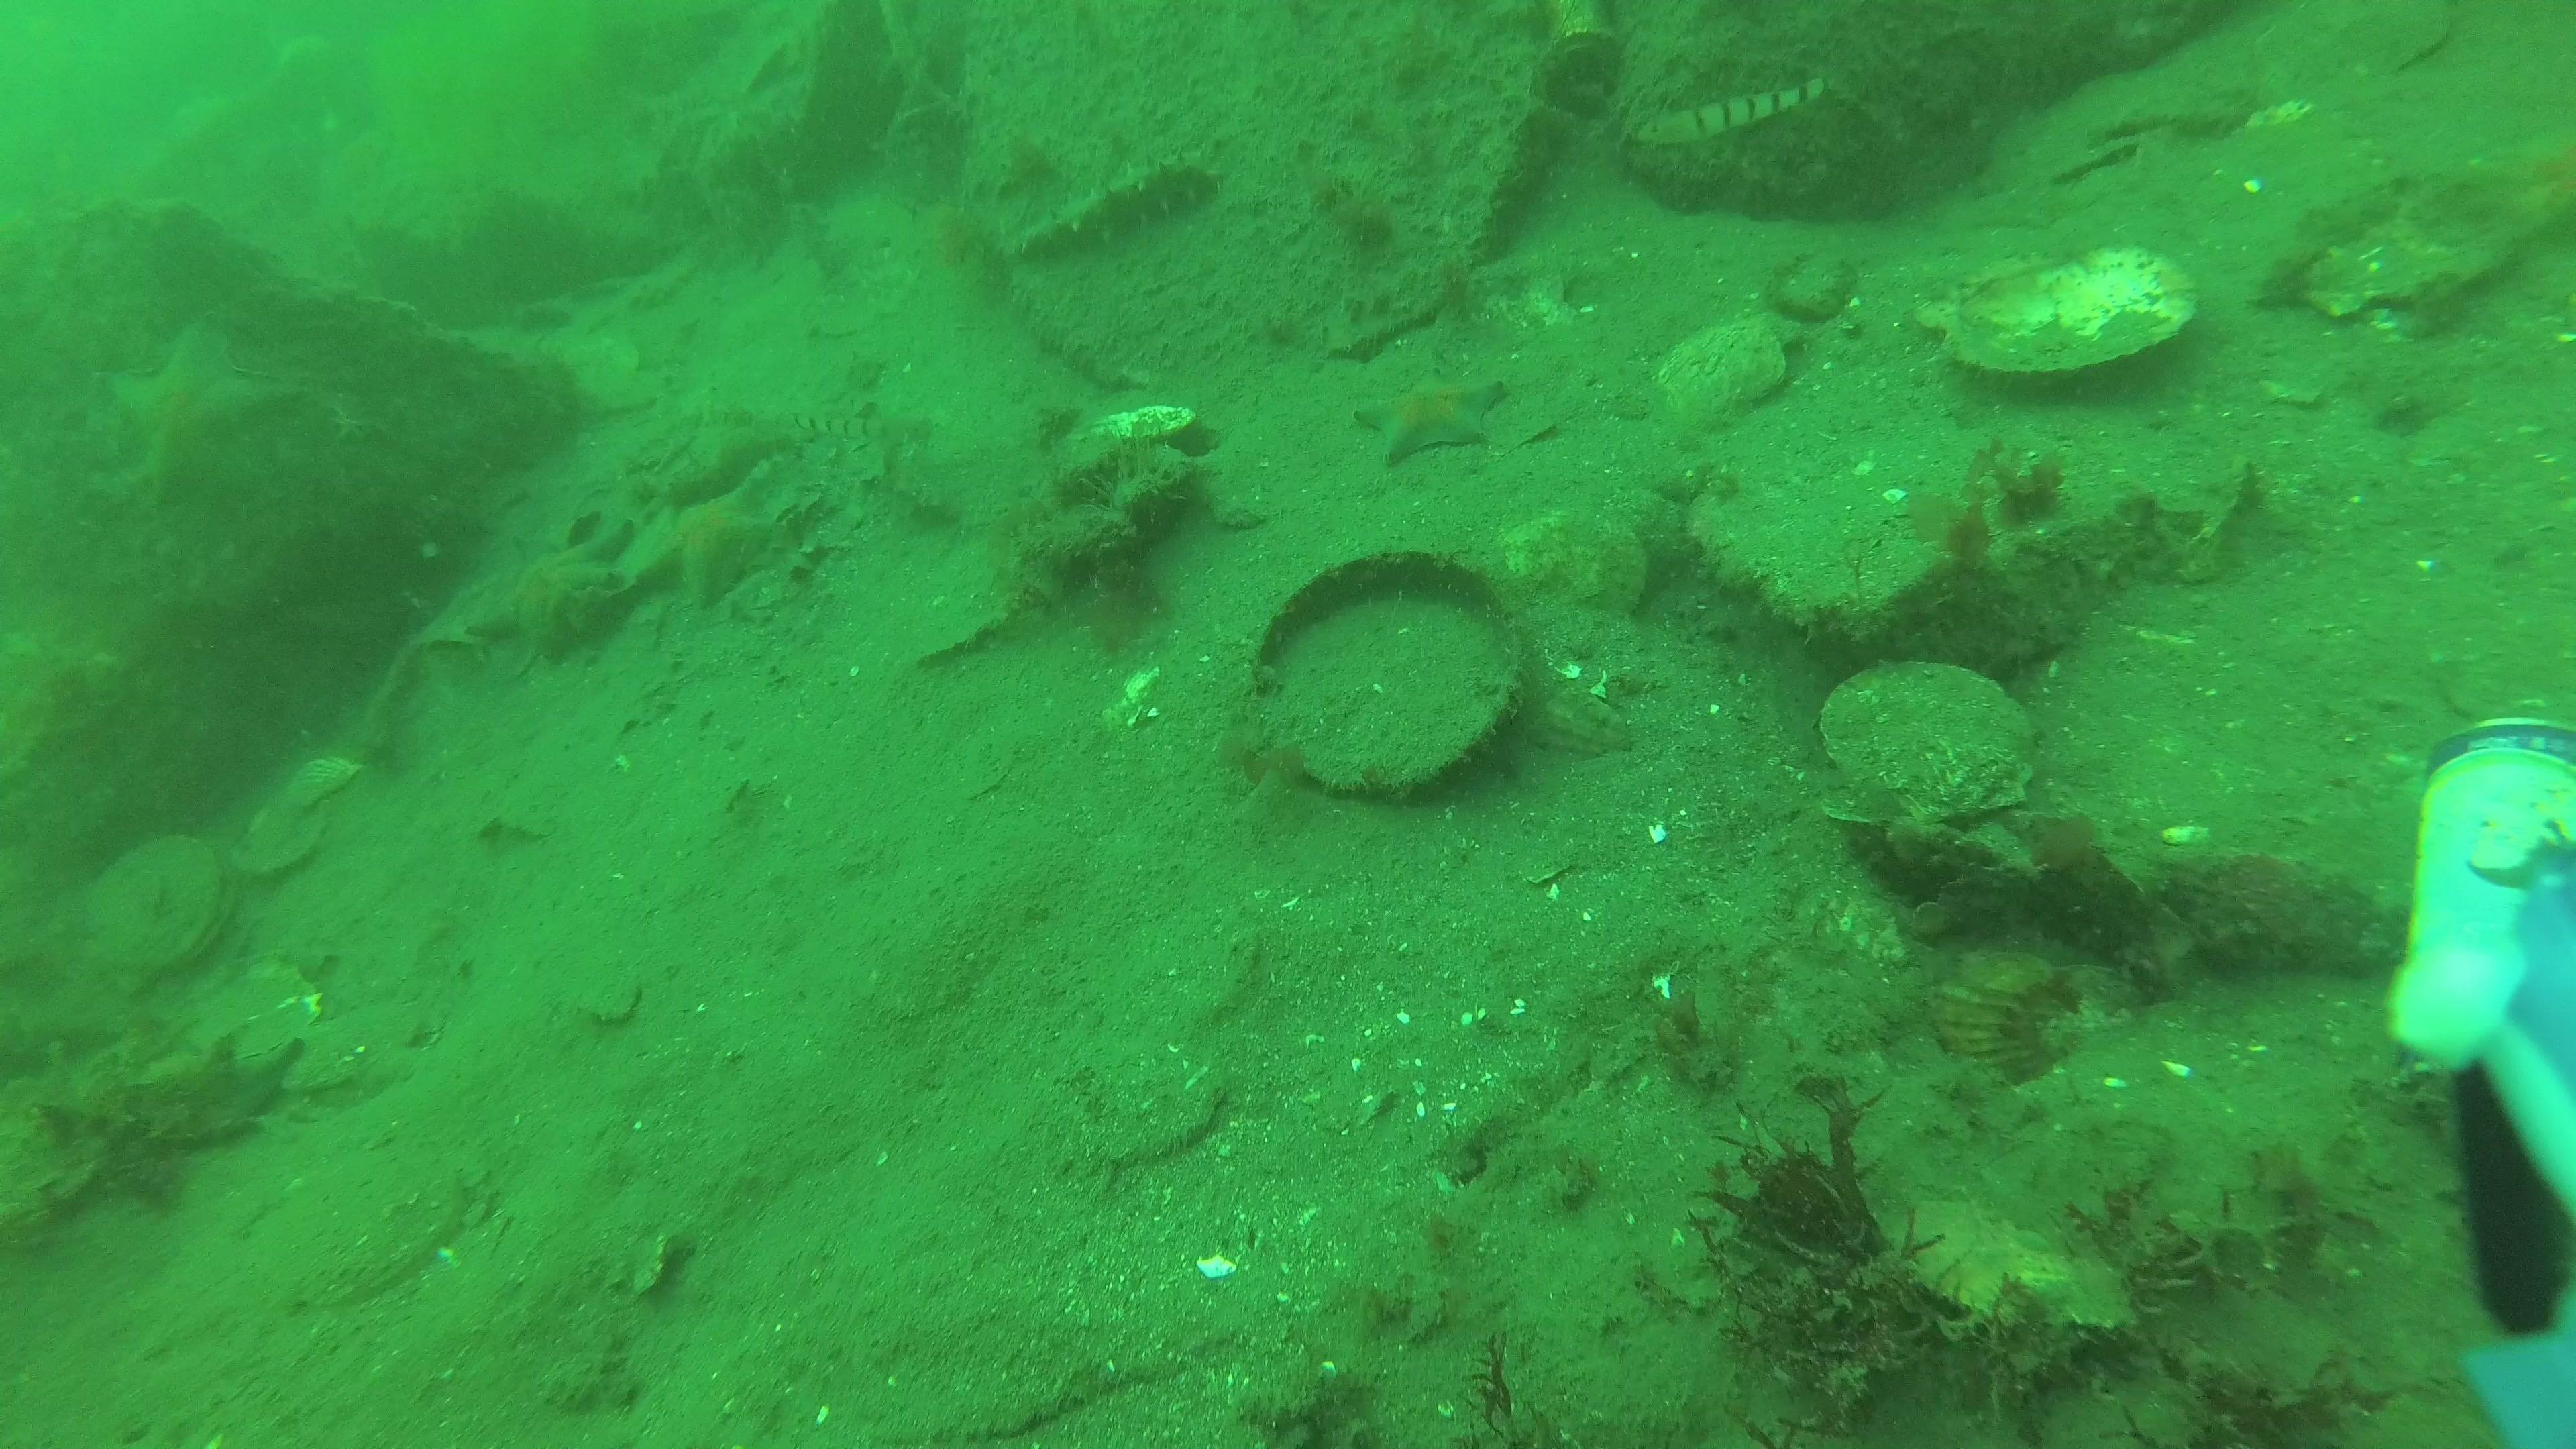holothurian: (993, 150, 1219, 265)
scallop: (1815, 656, 2040, 828), (1928, 952, 2088, 1085), (1499, 508, 1654, 637), (92, 844, 225, 987)
starfish: (111, 324, 292, 502), (617, 458, 796, 616), (474, 529, 633, 669), (1350, 377, 1507, 464)
